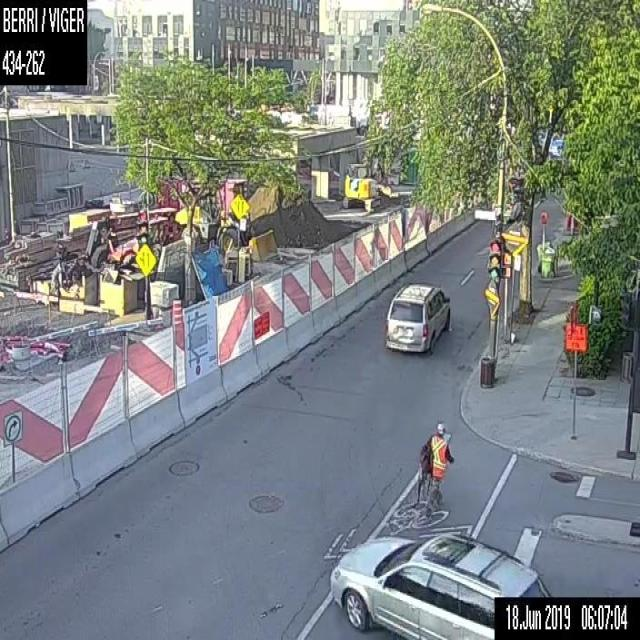construction: (562, 298, 586, 446), (170, 296, 182, 330)
pedestrian: (416, 419, 454, 509)
vehicle: (328, 528, 551, 639), (384, 280, 451, 353)
